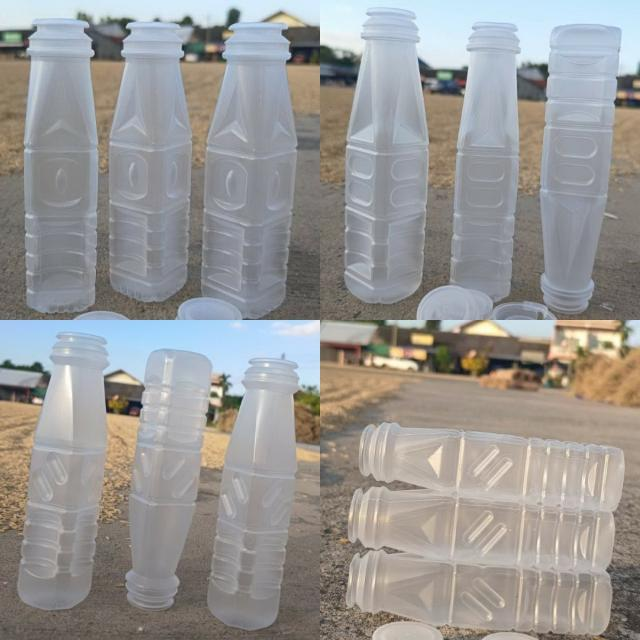Single-Use-Plastic: (201, 22, 298, 318), (18, 332, 109, 610), (344, 8, 429, 303), (208, 358, 299, 629), (360, 422, 625, 512), (541, 24, 621, 313), (109, 22, 191, 302), (349, 486, 614, 571), (126, 349, 212, 609), (346, 550, 611, 634), (24, 19, 98, 313), (450, 22, 520, 301)
